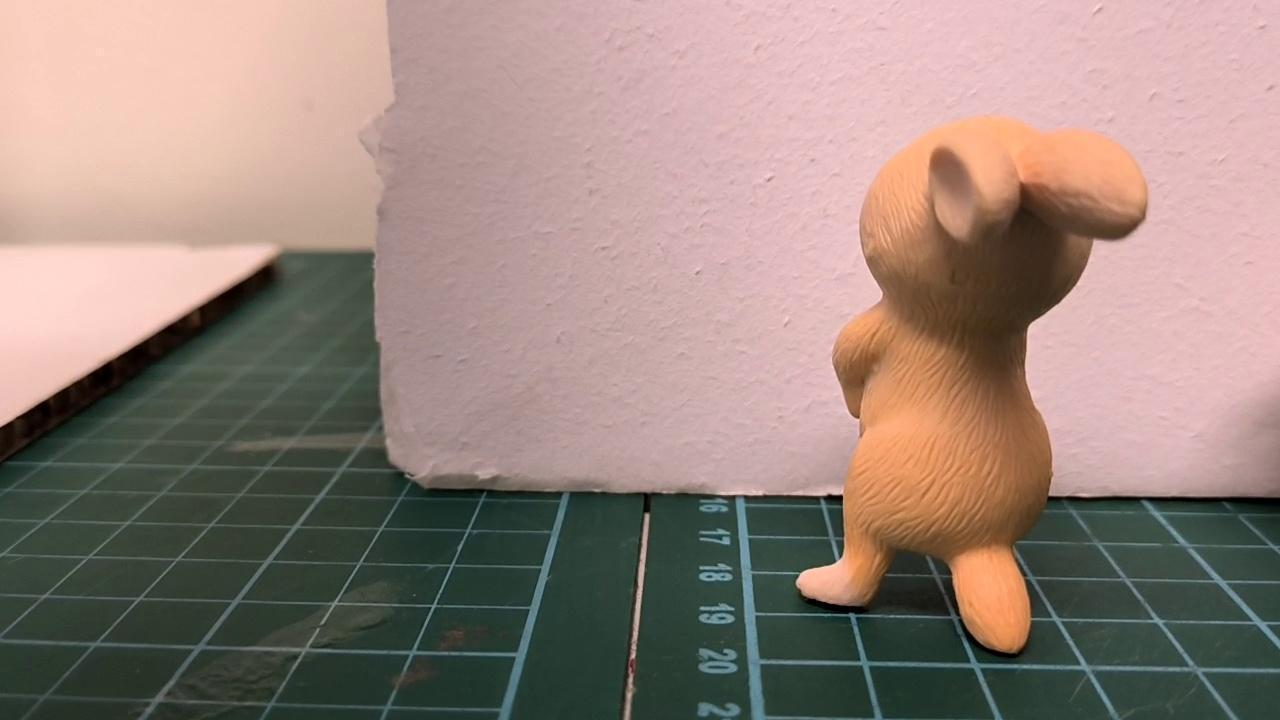pet: (798, 113, 1147, 655)
